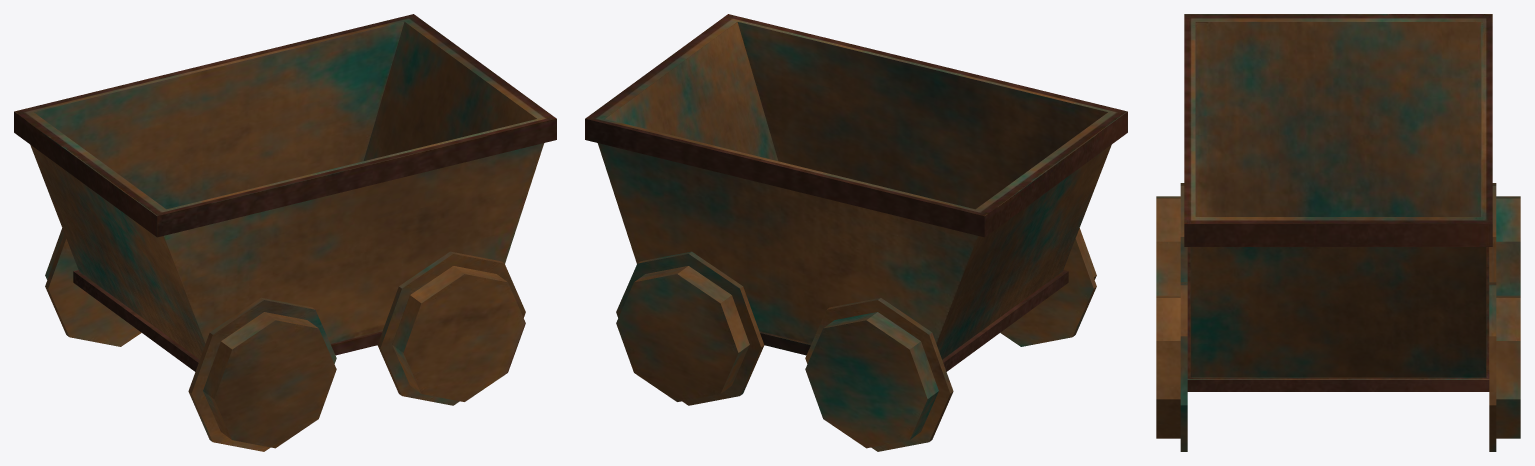
Rendered from Minecart.fbx.
3 renders of one model, left to right at view 1: azimuth 30°, elevation 25°; view 2: azimuth 150°, elevation 25°; view 3: azimuth 270°, elevation 25°, orthographic. The views are drawn at different scales.
Parts seen in each view (by area): view 1: Minecart_Baked; view 2: Minecart_Baked; view 3: Minecart_Baked.
Part boxes in pixels (x1,y1,x2,y2): Minecart_Baked: (14,14,556,451); Minecart_Baked: (585,14,1127,451); Minecart_Baked: (1156,14,1520,451).
Size of the model in its own units: 790 by 491 by 579.
Materials: 1 (1 with a texture image).
